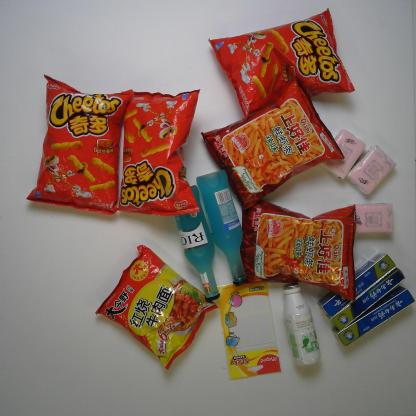Alcohol: (193, 163, 254, 288), (172, 182, 224, 304)
Instant Noodles: (92, 240, 222, 377)
Milk: (278, 279, 325, 369)
Personal Hygiene: (315, 249, 398, 320), (330, 283, 416, 347), (328, 266, 406, 333)
Puffed Food: (196, 75, 346, 213), (206, 4, 359, 121), (24, 71, 136, 219), (237, 198, 361, 304), (115, 79, 204, 220)
Stationery: (210, 273, 284, 382)
Tissue: (345, 140, 402, 199), (317, 125, 368, 183), (346, 199, 397, 237)
